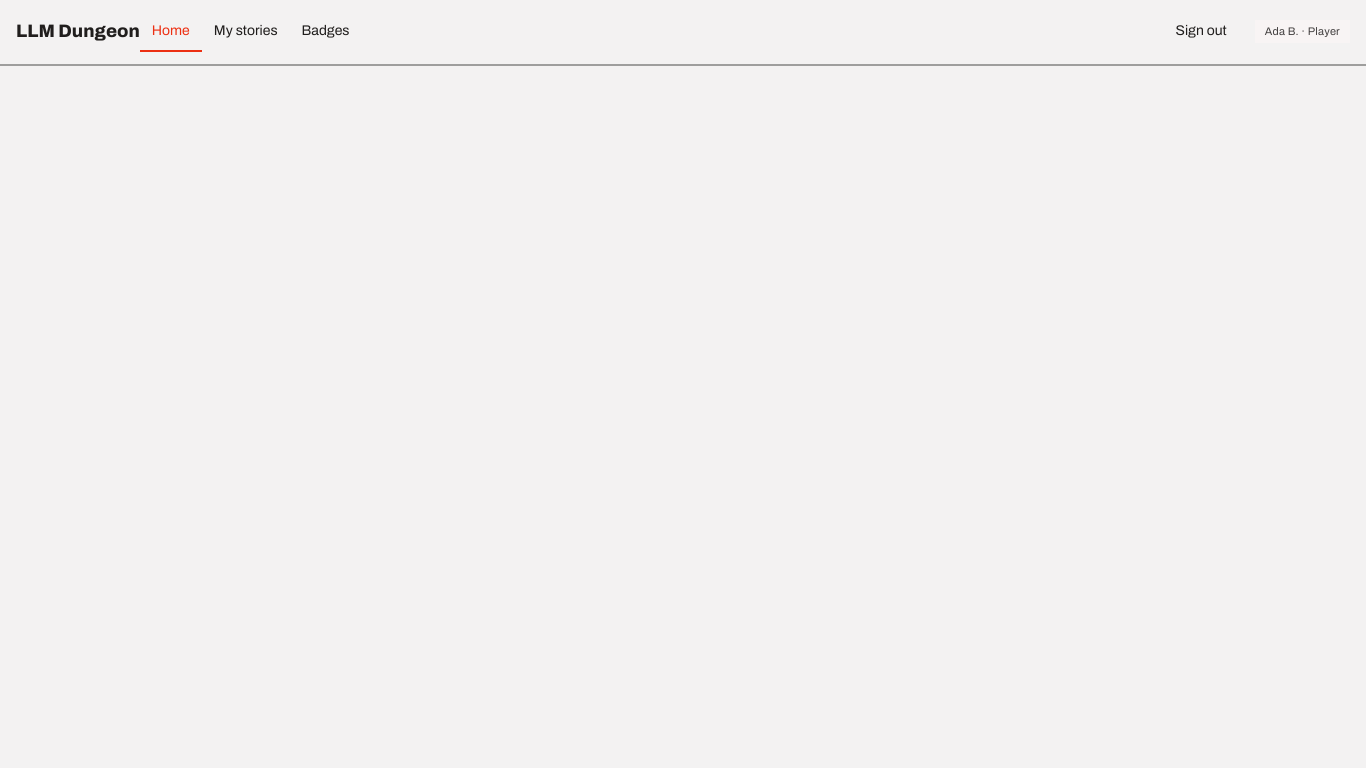
Scenario: NavBar sign-out save prompt (009-save-and-continue, FR-004, research.md Decision 6) › shows the prompt when a session is active and isActiveForPlayer
Click the link "Sign out" at (1201, 30), box [1176,23,1227,38]
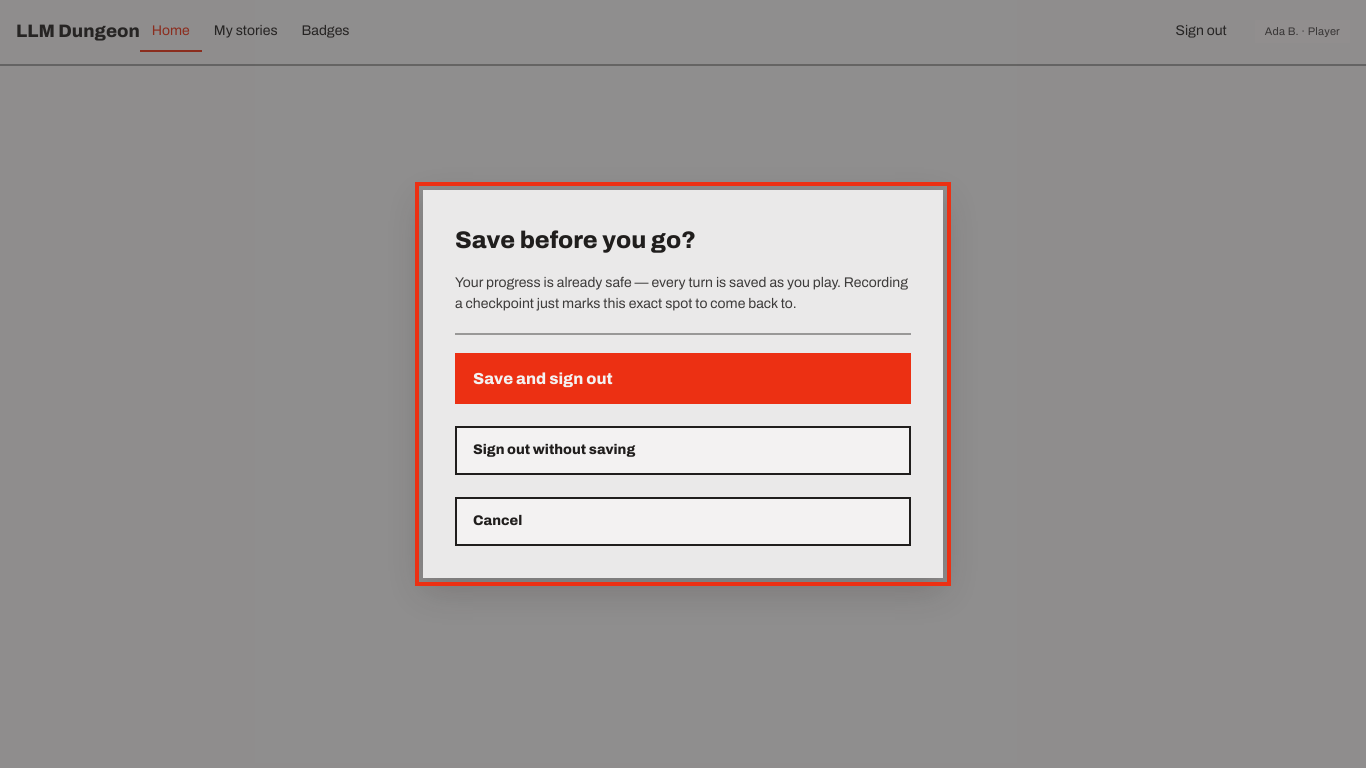
Now the dialog is shown, box [423,190,943,578]
